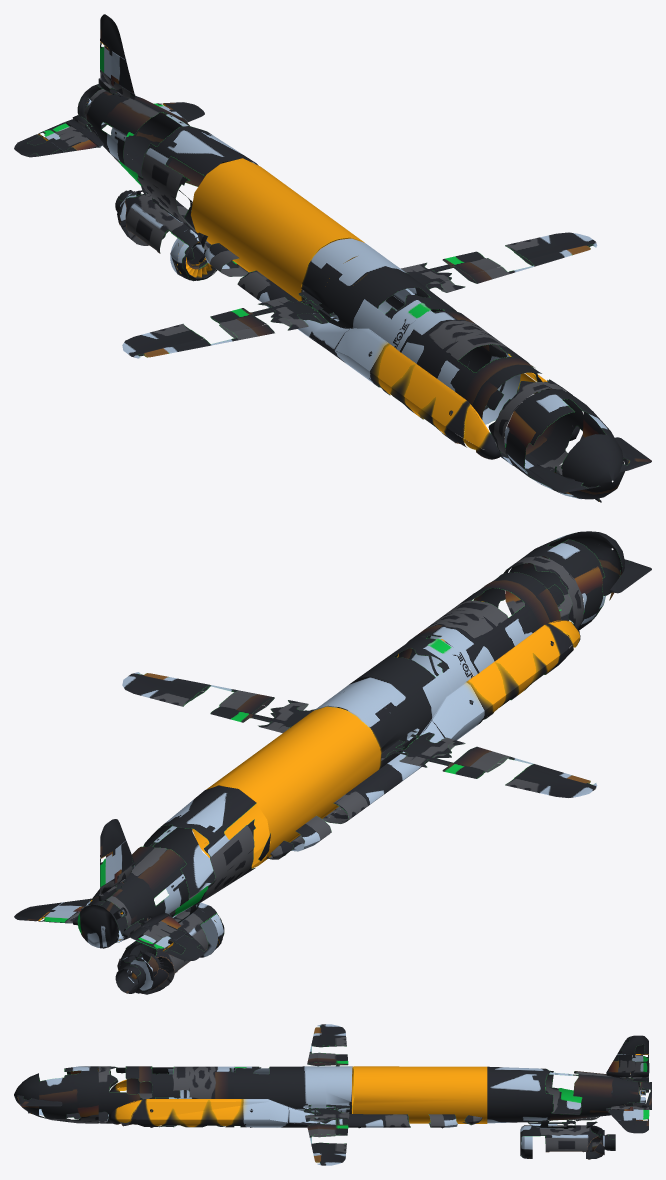
File: missile_9_body.fbx
The picture shows the model from 3 angles, top to bottom: view 1: azimuth 30°, elevation 25°; view 2: azimuth 150°, elevation 25°; view 3: azimuth 270°, elevation 25°; orthographic projection. The views are drawn at different scales.
Parts seen in each view (by area): view 1: X-555 (Final), X-555 (Final)_HA-555_0.002, X-555 (Final)_HA-555_0.001; view 2: X-555 (Final), X-555 (Final)_HA-555_0.002, X-555 (Final)_HA-555_0.001; view 3: X-555 (Final), X-555 (Final)_HA-555_0.001, X-555 (Final)_HA-555_0.002.
Boxes of the visible parts, x1=… form: X-555 (Final): x1=14, y1=14, x2=651, y2=502; X-555 (Final)_HA-555_0.002: x1=122, y1=291, x2=337, y2=358; X-555 (Final)_HA-555_0.001: x1=401, y1=232, x2=597, y2=294; X-555 (Final): x1=14, y1=531, x2=651, y2=994; X-555 (Final)_HA-555_0.002: x1=381, y1=730, x2=597, y2=797; X-555 (Final)_HA-555_0.001: x1=122, y1=672, x2=315, y2=733; X-555 (Final): x1=14, y1=1035, x2=651, y2=1159; X-555 (Final)_HA-555_0.001: x1=303, y1=1104, x2=349, y2=1165; X-555 (Final)_HA-555_0.002: x1=307, y1=1024, x2=348, y2=1066.
Size of the model in its own units: 217 by 88.22 by 416.
